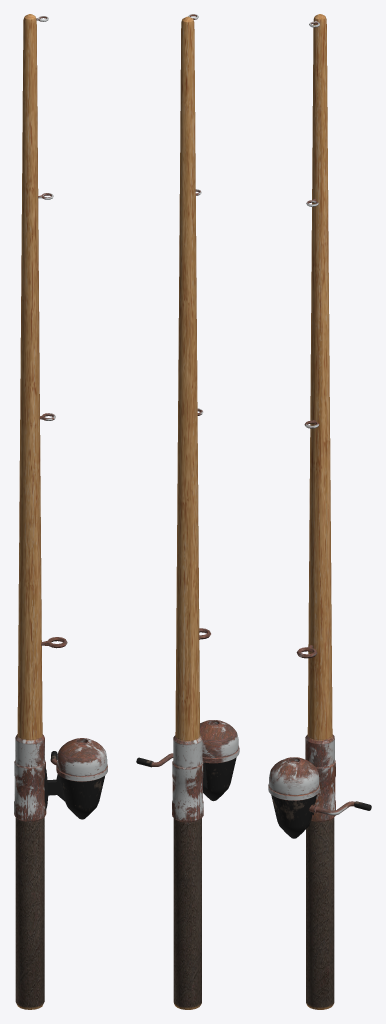
File: fishrod.glb
3 renders of one model, left to right at view 1: azimuth 90°, elevation 25°; view 2: azimuth 150°, elevation 25°; view 3: azimuth 330°, elevation 25°, orthographic.
Parts seen in each view (by area): view 1: Cylinder.001; view 2: Cylinder.001; view 3: Cylinder.001.
Part boxes in pixels (box(x1,y1,x2,y2)): Cylinder.001: box(14, 14, 107, 1009); Cylinder.001: box(136, 14, 239, 1009); Cylinder.001: box(268, 14, 371, 1009).
Bounding box in the file's own units: 0.154 × 1.71 × 0.1475.
Materials: 1 (1 with a texture image).
